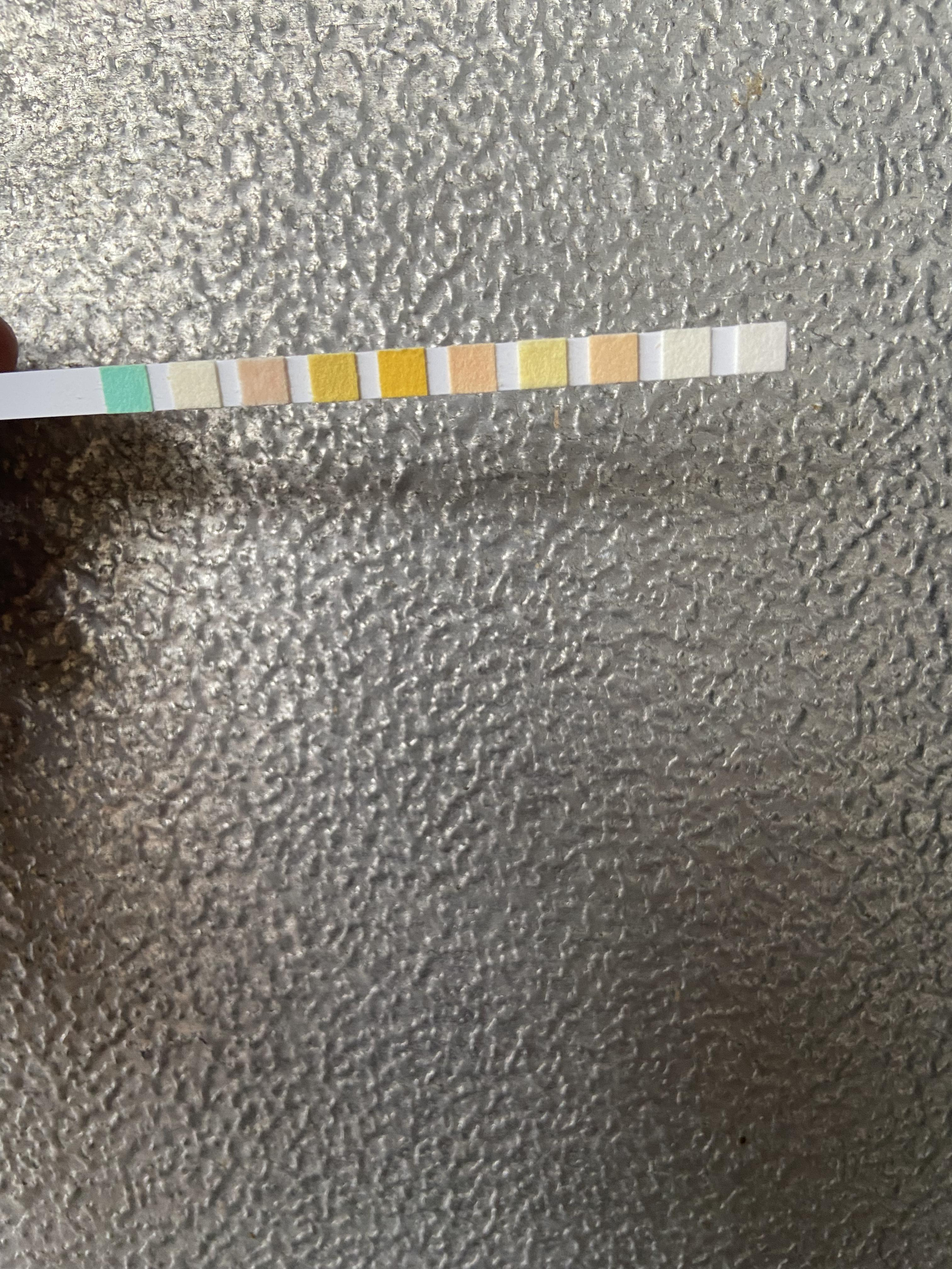Bilirubin: (175, 362, 213, 408)
Blood: (383, 350, 422, 396)
Glucose: (107, 367, 145, 413)
Ketone: (244, 359, 283, 405)
Leukocytes: (740, 326, 785, 372)
Nitrite: (664, 331, 709, 377)
Protein: (520, 340, 566, 386)
SpGravity: (315, 355, 354, 401)
Urobilinogen: (591, 336, 636, 382)
pH: (453, 346, 492, 392)
strip: (0, 322, 787, 422)
